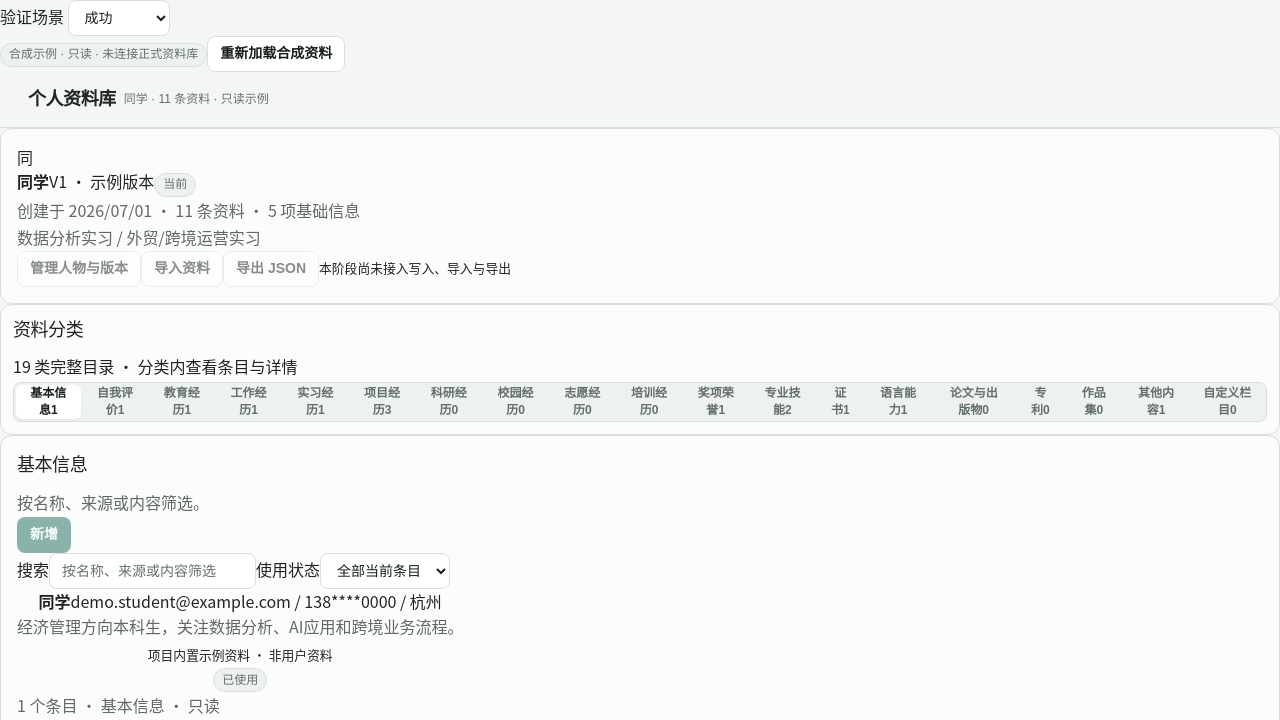
Scenario: P522 Host experience › shows loading without stale facts
This screenshot has width=1280, height=720.
Expected: the tab "基本信息1" is shown, [16, 386, 81, 419]
Select "加载中" in the dropdown labelled "验证场景" at (119, 18), box [68, 0, 170, 36]
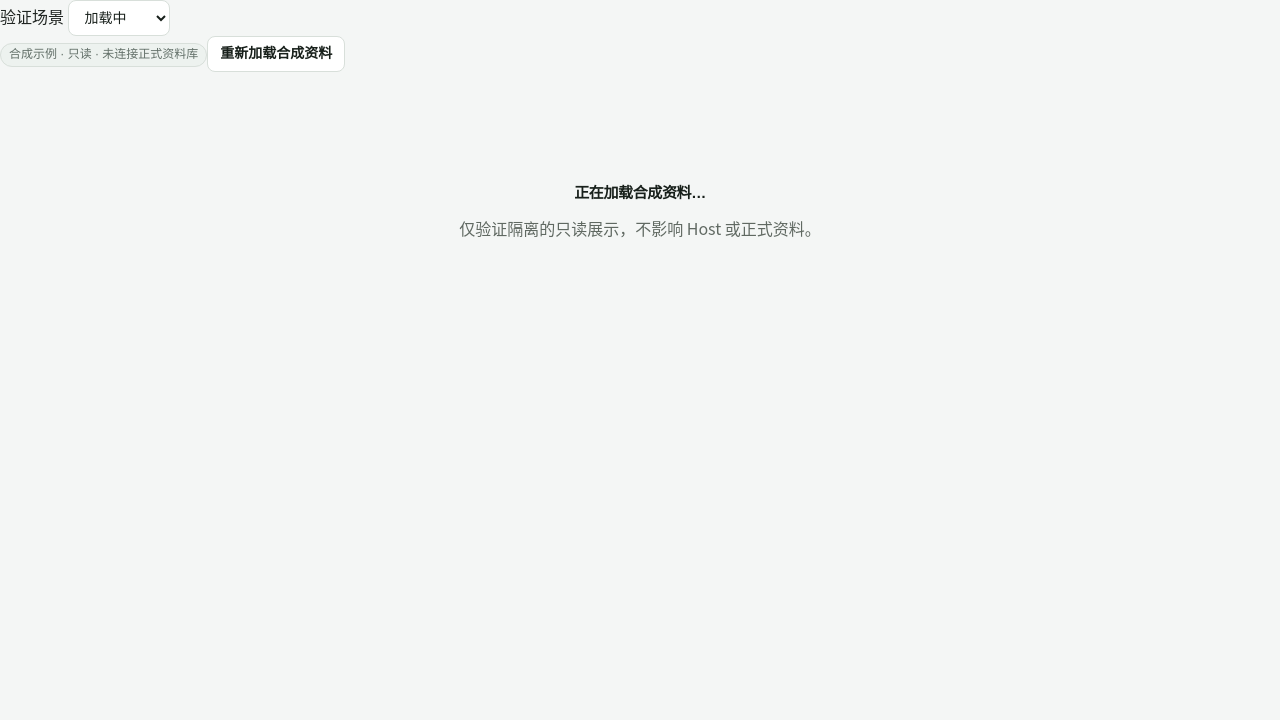
Result: the heading "正在加载合成资料…" is shown at [574, 182, 706, 203]
